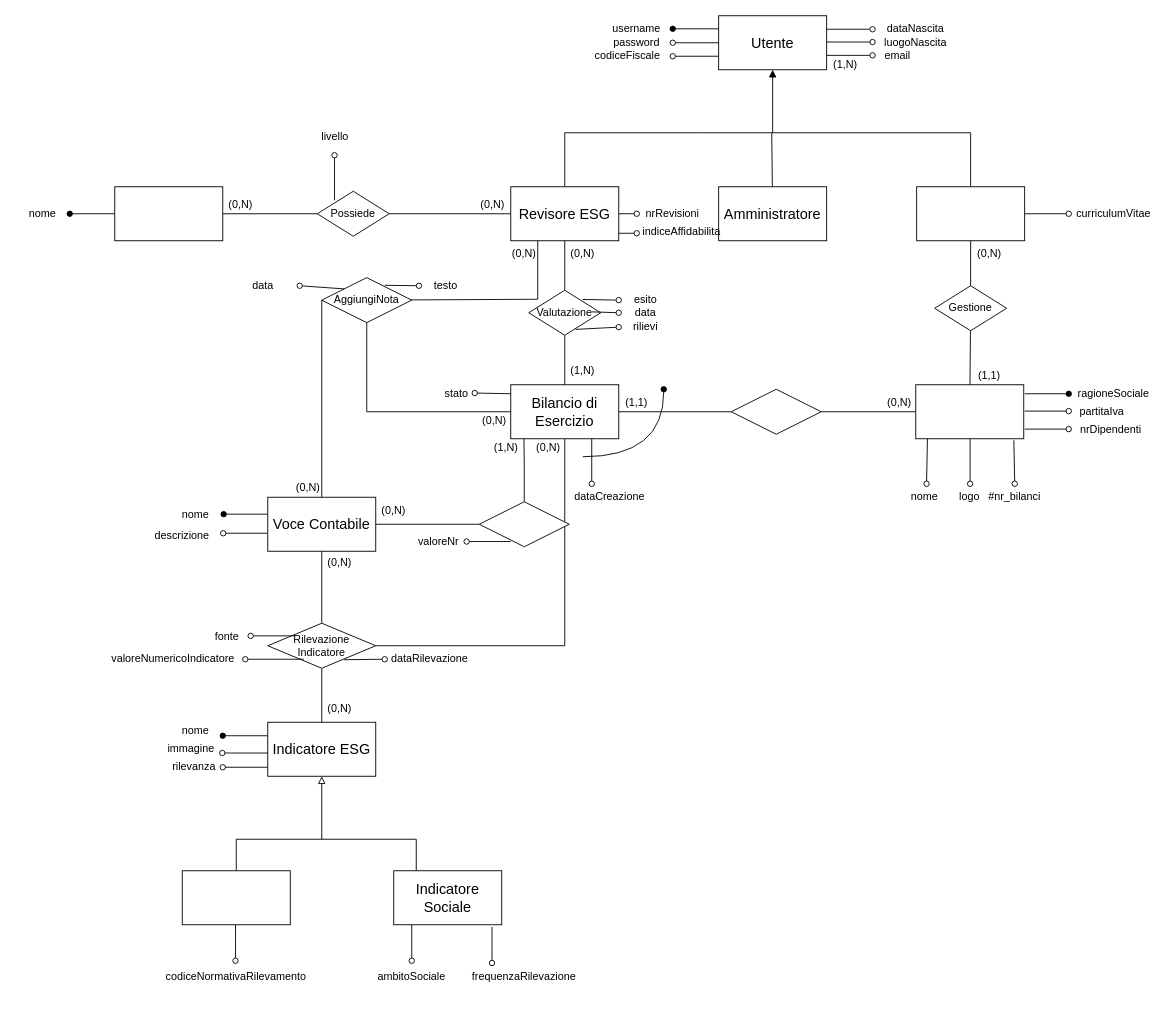
The diagram is 1174 pixels wide and 1026 high, and some of its shapes have lost their labels. Each missing label, with the centre of its shape:
"Appartenenza" belongs at point 775,411.
"Azienda" belongs at point 969,411.
"Competenza" belongs at point 168,213.
"Composto da" belongs at point 523,524.
"Indicatore Ambientale" belongs at point 235,897.
"Responsabile Aziendale" belongs at point 970,213.
